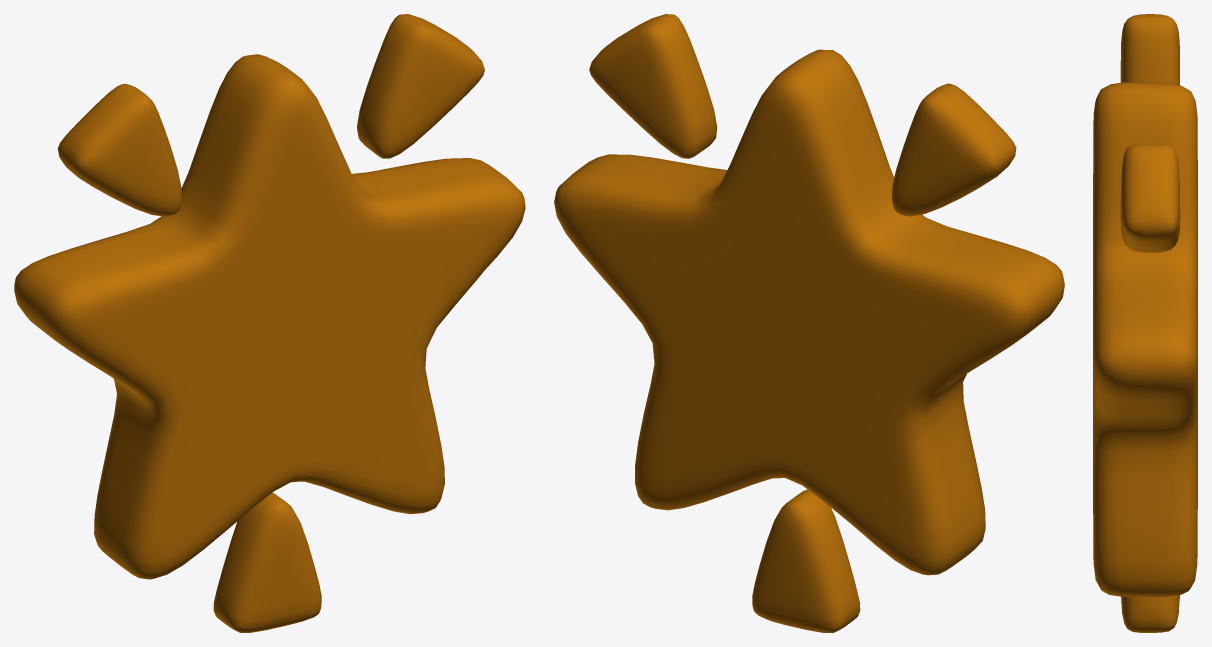
The model's file is star-with-points.FBX.
The picture shows the model from 3 angles, left to right: view 1: azimuth 30°, elevation 25°; view 2: azimuth 150°, elevation 25°; view 3: azimuth 270°, elevation 25°; orthographic projection. The views are drawn at different scales.
Visible parts, largest first — view 1: Group30219, Group2, ZBrush_defualt_group, Group1; view 2: Group30219, Group2, ZBrush_defualt_group, Group1; view 3: Group30219, Group2, Group1, ZBrush_defualt_group.
Part boxes in pixels (<box>): Group30219: <box>14,54,525,579</box>; Group2: <box>357,14,484,158</box>; ZBrush_defualt_group: <box>213,492,321,632</box>; Group1: <box>57,83,181,216</box>; Group30219: <box>554,49,1064,575</box>; Group2: <box>589,14,717,158</box>; ZBrush_defualt_group: <box>752,489,860,632</box>; Group1: <box>891,83,1016,216</box>; Group30219: <box>1093,82,1197,596</box>; Group2: <box>1120,144,1180,252</box>; Group1: <box>1120,14,1179,85</box>; ZBrush_defualt_group: <box>1121,595,1179,632</box>.
Bounding box in the file's own units: 16.35 × 18.56 × 3.25.
